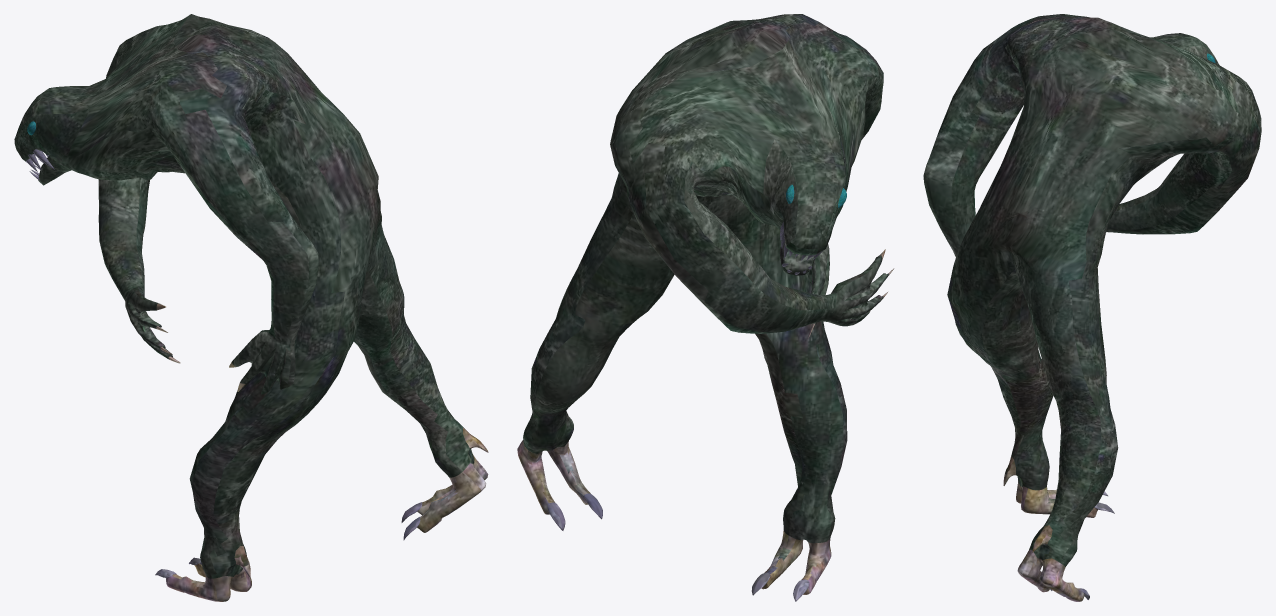
Rendered from Aranar.0007.obj.
3 views of the same model, side by side, from view 1: azimuth 30°, elevation 25°; view 2: azimuth 150°, elevation 25°; view 3: azimuth 270°, elevation 25° (orthographic). The views are drawn at different scales.
Visible parts, largest first — view 1: polySurface28; view 2: polySurface28; view 3: polySurface28.
Boxes of the visible parts, x1,y1,x2,y2 form: polySurface28: [14, 14, 488, 601]; polySurface28: [517, 14, 894, 601]; polySurface28: [923, 14, 1261, 601].
Size of the model in its own units: 1.51 by 2.01 by 1.24.
Materials: 4 (4 with a texture image).
